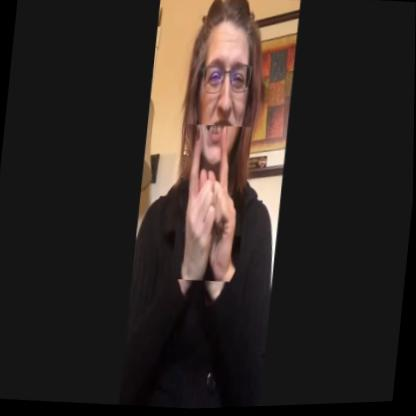NiceToMeetYou: (172, 124, 253, 286)
